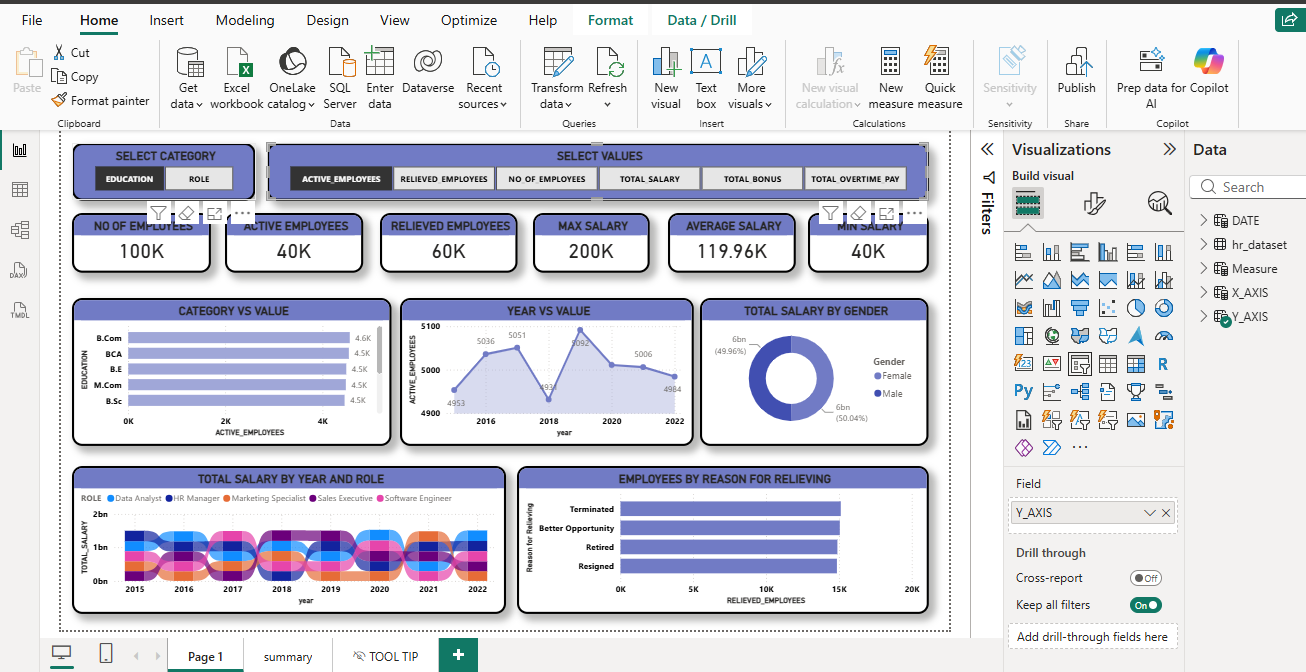

Layout of this report page (visuals, bound fields, positions):
{"tool":"powerbi","page":{"name":"Page 1","canvas":[1280,720],"ordinal":0},"visuals":[{"type":"card","title":"NO OF EMPLOYEES","fields":{"Values":["Measure.NO_OF_EMPLOYEES"]},"box":[16.2,120,200,86.2],"z":0},{"type":"card","title":"RELIEVED EMPLOYEES","fields":{"Values":["Measure.RELIEVED_EMPLOYEES"]},"box":[458.8,120,197.5,86.2],"z":1000},{"type":"card","title":"ACTIVE EMPLOYEES","fields":{"Values":["Measure.ACTIVE_EMPLOYEES"]},"box":[236.2,120,198.8,86.2],"z":2000},{"type":"card","title":"MIN SALARY","fields":{"Values":["Measure.MIN_SALARY"]},"box":[1075,120,173.8,86.2],"z":3000},{"type":"card","title":"AVERAGE SALARY","fields":{"Values":["Measure.AVERAGE_SALARY"]},"box":[873.8,120,183.8,86.2],"z":4000},{"type":"card","title":"MAX SALARY","fields":{"Values":["Measure.MAX_SALARY"]},"box":[680,120,167.5,86.2],"z":5000},{"type":"slicer","title":"SELECT CATEGORY","fields":{"Values":["X_AXIS.X_AXIS"]},"box":[16.1,18.4,264.2,82.7],"z":6000},{"type":"slicer","title":"SELECT VALUES","fields":{"Values":["Y_AXIS.Y_AXIS"]},"box":[296.2,18.8,952.5,82.5],"z":7000},{"type":"barChart","title":"CATEGORY VS VALUE","fields":{"Category":["hr_dataset.EDUCATION"],"Y":["Measure.ACTIVE_EMPLOYEES"]},"box":[16.2,241.2,460,212.5],"z":8000},{"type":"lineChart","title":"YEAR VS VALUE","fields":{"Y":["Measure.ACTIVE_EMPLOYEES"],"Category":["DATE.year"]},"box":[487.5,241.2,422.5,212.5],"z":9000},{"type":"ribbonChart","title":"TOTAL SALARY BY YEAR AND ROLE","fields":{"Category":["DATE.year"],"Y":["Measure.TOTAL_SALARY"],"Series":["hr_dataset.ROLE"]},"box":[16.2,483.8,625,212.5],"z":10000},{"type":"donutChart","title":"TOTAL SALARY BY GENDER","fields":{"Category":["hr_dataset.Gender"],"Y":["Measure.TOTAL_SALARY"]},"box":[920,241.2,328.8,212.5],"z":11000},{"type":"barChart","title":"EMPLOYEES BY REASON FOR RELIEVING","fields":{"Category":["hr_dataset.Reason for Relieving"],"Y":["Measure.RELIEVED_EMPLOYEES"]},"box":[656.2,483.8,592.5,212.5],"z":12000}]}

Visuals, with their boxes on the page's 1280x720 design canvas (x1, y1, x2, y2). These are canvas units, not pixel positions in the 1306x672 screenshot, which may show the page scaled, cropped or inside an application window:
"NO OF EMPLOYEES" card: x1=16, y1=120, x2=216, y2=206
"RELIEVED EMPLOYEES" card: x1=459, y1=120, x2=656, y2=206
"ACTIVE EMPLOYEES" card: x1=236, y1=120, x2=435, y2=206
"MIN SALARY" card: x1=1075, y1=120, x2=1249, y2=206
"AVERAGE SALARY" card: x1=874, y1=120, x2=1058, y2=206
"MAX SALARY" card: x1=680, y1=120, x2=848, y2=206
"SELECT CATEGORY" slicer: x1=16, y1=18, x2=280, y2=101
"SELECT VALUES" slicer: x1=296, y1=19, x2=1249, y2=101
"CATEGORY VS VALUE" barChart: x1=16, y1=241, x2=476, y2=454
"YEAR VS VALUE" lineChart: x1=488, y1=241, x2=910, y2=454
"TOTAL SALARY BY YEAR AND ROLE" ribbonChart: x1=16, y1=484, x2=641, y2=696
"TOTAL SALARY BY GENDER" donutChart: x1=920, y1=241, x2=1249, y2=454
"EMPLOYEES BY REASON FOR RELIEVING" barChart: x1=656, y1=484, x2=1249, y2=696
